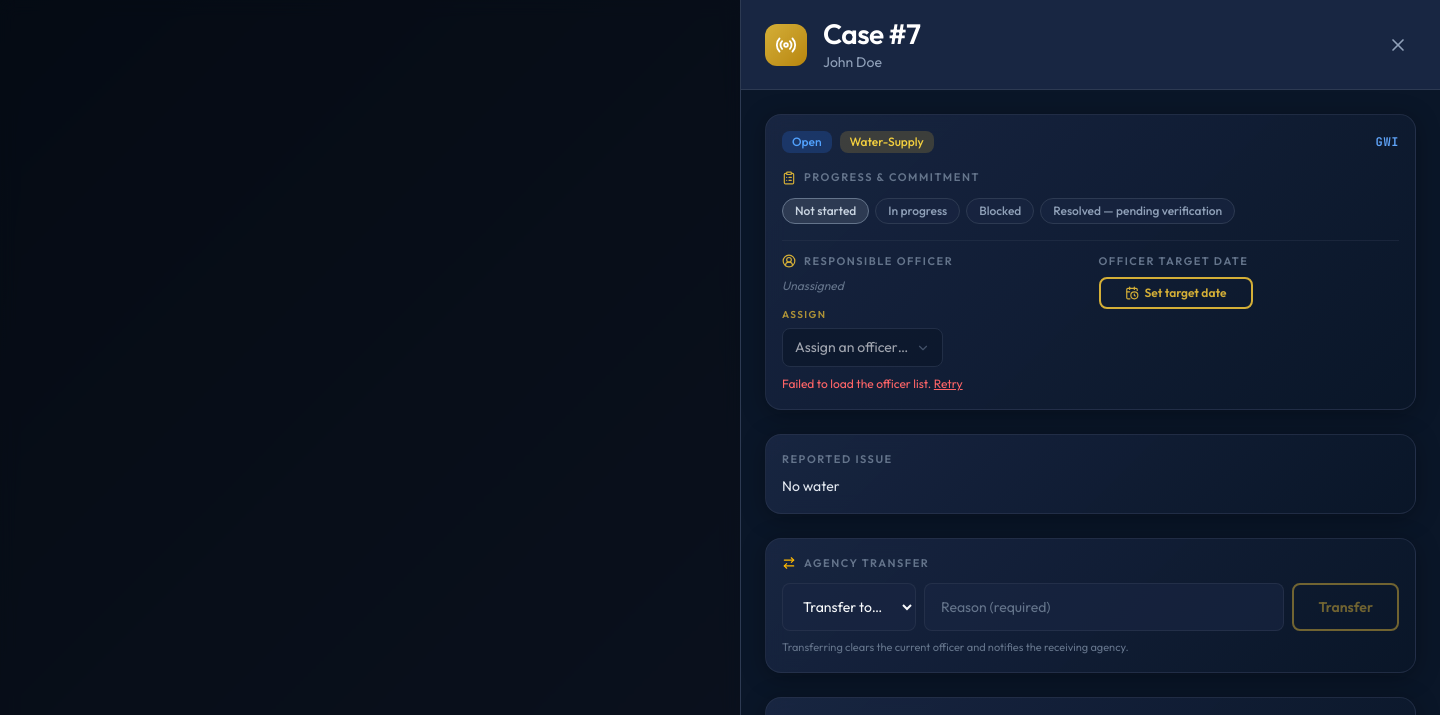
Scenario: officer picker (MultiSelect adapter) › a failed officer fetch disables the picker and offers a retry — never an empty picker
Check: the text "No water" is shown, box [782,477,840,495]
Check: the text "Failed to load the officer list. Retry" is shown, box [782,375,963,393]
Click the button "Retry": (948, 384) [934,375,963,393]
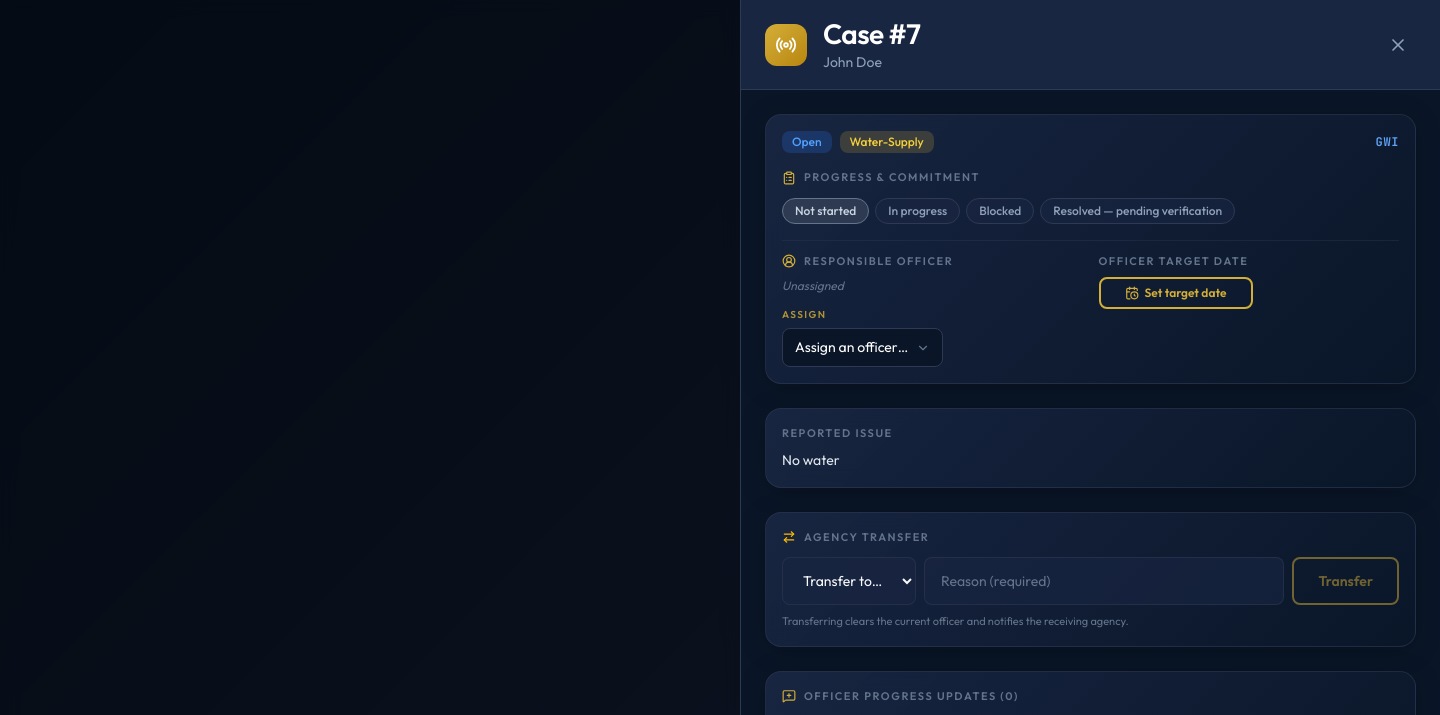
Check: the button "Assign an officer…" is enabled
Click the button "Assign an officer…": (863, 348) [782,328,943,367]
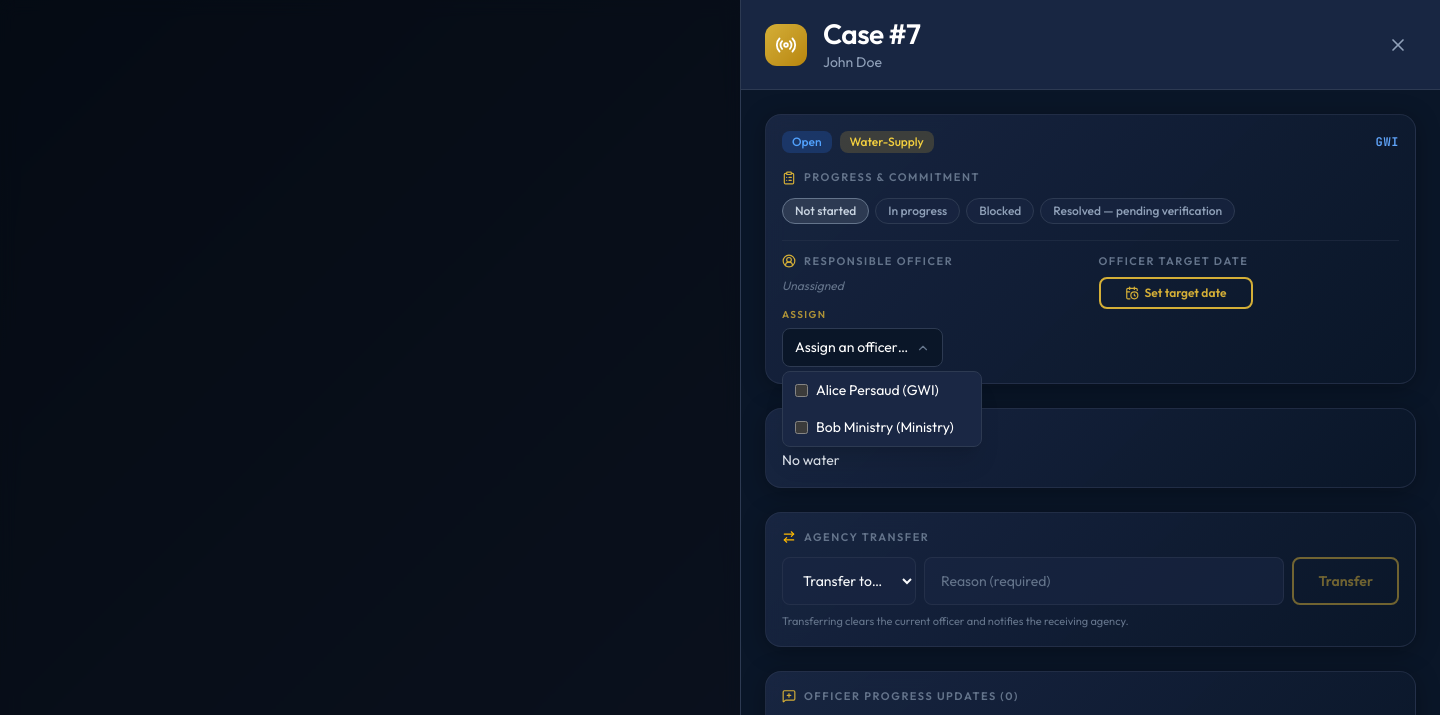
Check: the checkbox labelled "Alice Persaud (GWI)" is shown, box [795,384,808,397]
